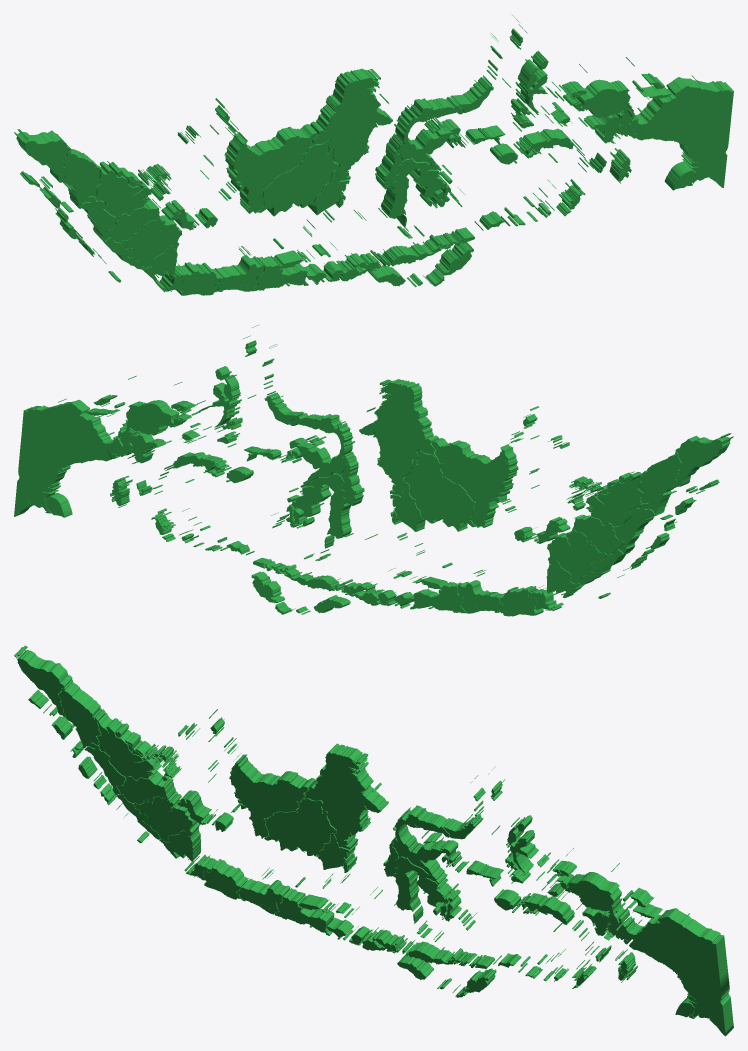
File: peta indonesia (prov) - base.fbx
3 renders of one model, top to bottom at view 1: azimuth 30°, elevation 25°; view 2: azimuth 150°, elevation 25°; view 3: azimuth 330°, elevation 25°, orthographic. The views are drawn at different scales.
Visible parts, largest first — view 1: Papua, Kalimantan Timur, Kalimantan Barat, Maluku, Irian Jaya Barat, NTT, Kalimantan Tengah, Sulawesi Tengah, Maluku Utara, Riau, Sumatera Utara, Aceh (+18 smaller); view 2: Papua, Kalimantan Timur, Kalimantan Barat, Kalimantan Tengah, Irian Jaya Barat, Maluku, Sulawesi Tengah, NTT, Riau, Sumatera Utara, Maluku Utara, Sumatera Selatan (+17 smaller); view 3: Papua, Kalimantan Timur, Kalimantan Barat, Irian Jaya Barat, Maluku, Sulawesi Tengah, Kalimantan Tengah, NTT, Riau, Sumatera Utara, Maluku Utara, Aceh (+15 smaller).
Boxes of the visible parts, <box> form: Papua: <box>627,73,733,190</box>; Kalimantan Timur: <box>310,68,392,181</box>; Kalimantan Barat: <box>218,124,317,213</box>; Maluku: <box>479,128,631,229</box>; Irian Jaya Barat: <box>550,57,641,143</box>; NTT: <box>369,227,474,287</box>; Kalimantan Tengah: <box>257,140,338,216</box>; Sulawesi Tengah: <box>391,98,465,170</box>; Maluku Utara: <box>465,50,557,144</box>; Riau: <box>92,160,151,216</box>; Sumatera Utara: <box>39,149,100,222</box>; Aceh: <box>14,129,71,189</box>; Papua: <box>14,394,125,517</box>; Kalimantan Timur: <box>359,379,438,495</box>; Kalimantan Barat: <box>432,438,518,527</box>; Kalimantan Tengah: <box>403,450,476,531</box>; Irian Jaya Barat: <box>108,375,200,463</box>; Maluku: <box>110,452,253,554</box>; Sulawesi Tengah: <box>281,414,355,487</box>; NTT: <box>251,557,350,614</box>; Riau: <box>586,472,643,526</box>; Sumatera Utara: <box>639,452,696,531</box>; Maluku Utara: <box>198,366,281,461</box>; Sumatera Selatan: <box>547,528,608,583</box>; Papua: <box>618,888,733,1036</box>; Kalimantan Timur: <box>304,743,388,849</box>; Kalimantan Barat: <box>229,754,315,838</box>; Irian Jaya Barat: <box>547,848,631,944</box>; Maluku: <box>494,889,637,988</box>; Sulawesi Tengah: <box>392,805,466,883</box>; Kalimantan Tengah: <box>264,796,336,856</box>; NTT: <box>397,941,496,997</box>; Riau: <box>97,713,161,780</box>; Sumatera Utara: <box>51,680,105,757</box>; Maluku Utara: <box>466,815,549,886</box>; Aceh: <box>14,645,72,716</box>.
Bounding box in the file's own units: 1211 × 442 × 102.
